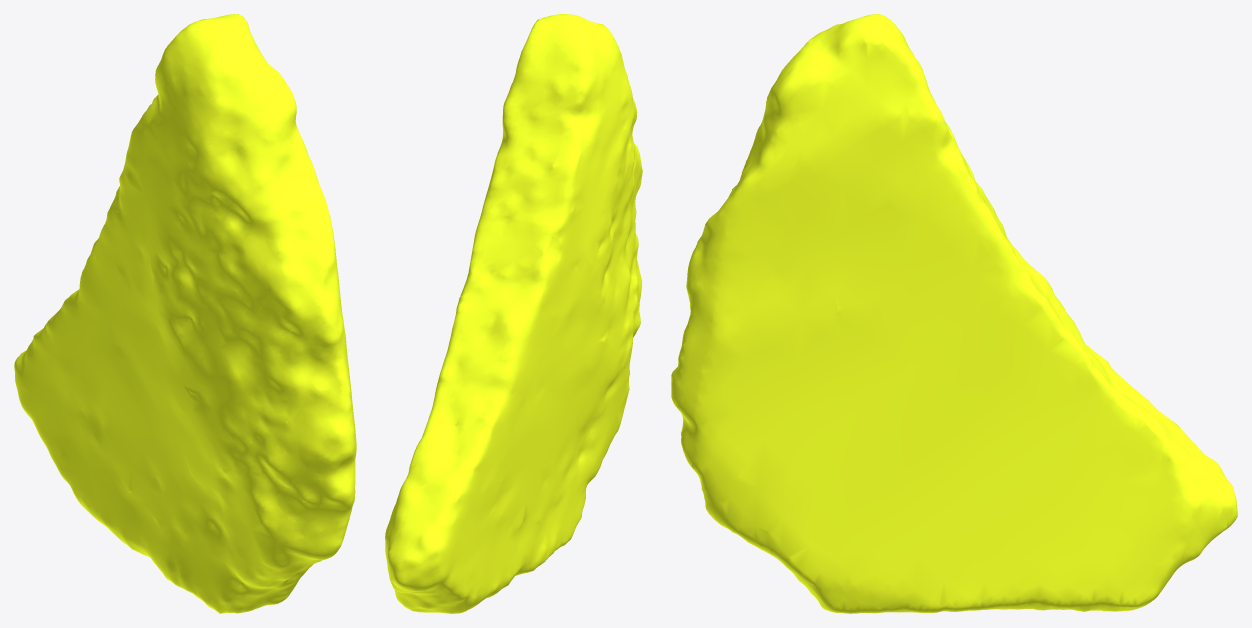
3 views of the same model, side by side, from view 1: azimuth 30°, elevation 25°; view 2: azimuth 150°, elevation 25°; view 3: azimuth 270°, elevation 25° (orthographic). The views are drawn at different scales.
Parts seen in each view (by area): view 1: Object_1; view 2: Object_1; view 3: Object_1.
Part boxes in pixels (box(x1,y1,x2,y2)): Object_1: box(14, 14, 356, 613); Object_1: box(385, 14, 642, 613); Object_1: box(671, 14, 1237, 613).
Size of the model in its own units: 265 by 1328 by 1163.
